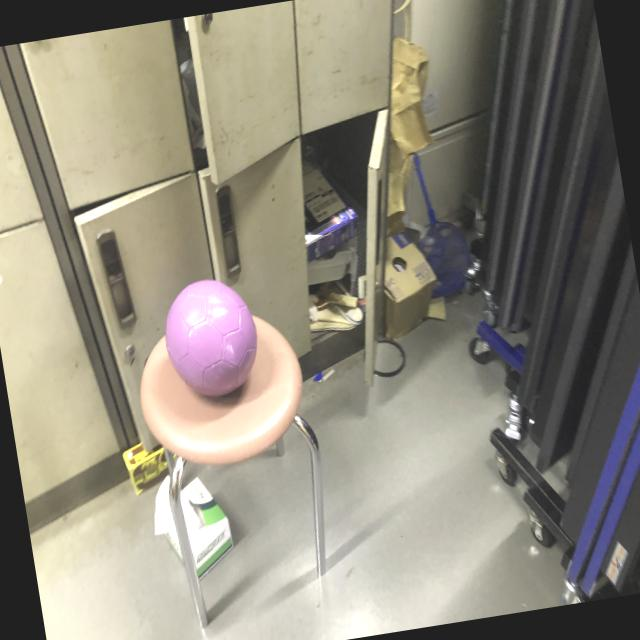purple_ball: (156, 272, 265, 402)
